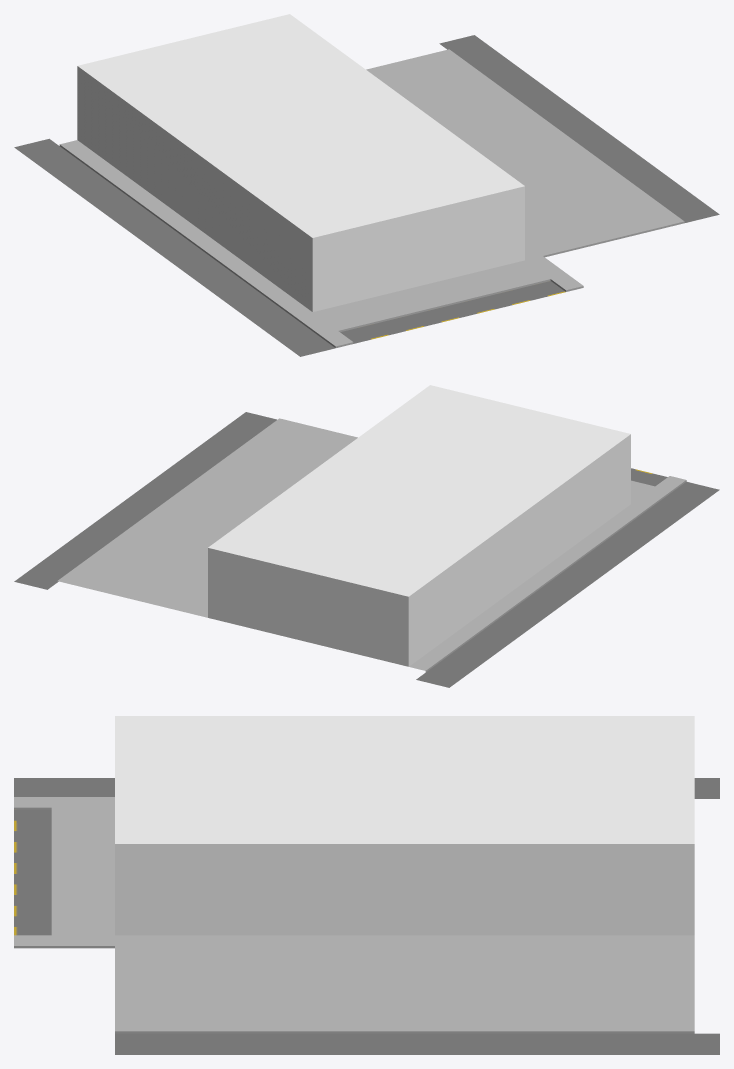
The model's file is guardia_civil.glb.
3 views of the same model, one above another, from view 1: azimuth 30°, elevation 25°; view 2: azimuth 150°, elevation 25°; view 3: azimuth 270°, elevation 25° (orthographic). The views are drawn at different scales.
Parts seen in each view (by area): view 1: Plane, Parking; view 2: Plane; view 3: Plane, Parking.
Boxes of the visible parts, x1=… form: Plane: x1=14, y1=14, x2=719, y2=356; Parking: x1=340, y1=281, x2=565, y2=343; Plane: x1=14, y1=385, x2=719, y2=687; Plane: x1=14, y1=716, x2=719, y2=1054; Parking: x1=14, y1=809, x2=51, y2=935.
Size of what is drawn, in the model's own units: 52 by 8.2 by 56.
4 materials, 1 textured.
